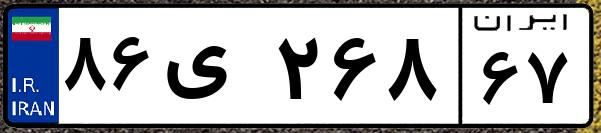2: (270, 28, 330, 110)
6: (330, 28, 385, 110), (475, 38, 525, 113), (110, 28, 158, 98)
7: (525, 38, 570, 115)
8: (385, 28, 445, 110), (57, 26, 110, 100)
ی: (158, 20, 270, 120)
